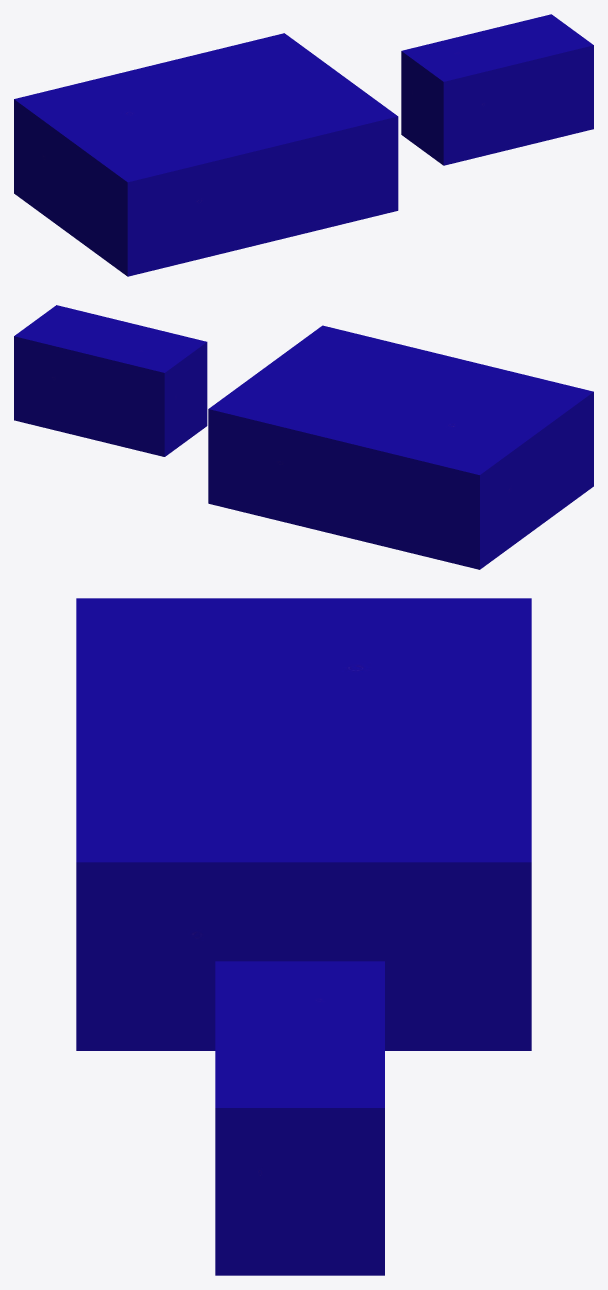
File: RedBox.FBX
The picture shows the model from 3 angles, top to bottom: view 1: azimuth 30°, elevation 25°; view 2: azimuth 150°, elevation 25°; view 3: azimuth 270°, elevation 25°; orthographic projection. The views are drawn at different scales.
Visible parts, largest first — view 1: Box001, Box002; view 2: Box001, Box002; view 3: Box001, Box002.
Part boxes in pixels (x1,y1,x2,y2): Box001: [14, 33, 398, 276]; Box002: [401, 14, 593, 165]; Box001: [208, 325, 593, 569]; Box002: [14, 305, 207, 456]; Box001: [76, 598, 531, 1050]; Box002: [215, 961, 384, 1275].
Size of the model in its own units: 125 by 22.55 by 49.27.
2 materials, 2 textured.
